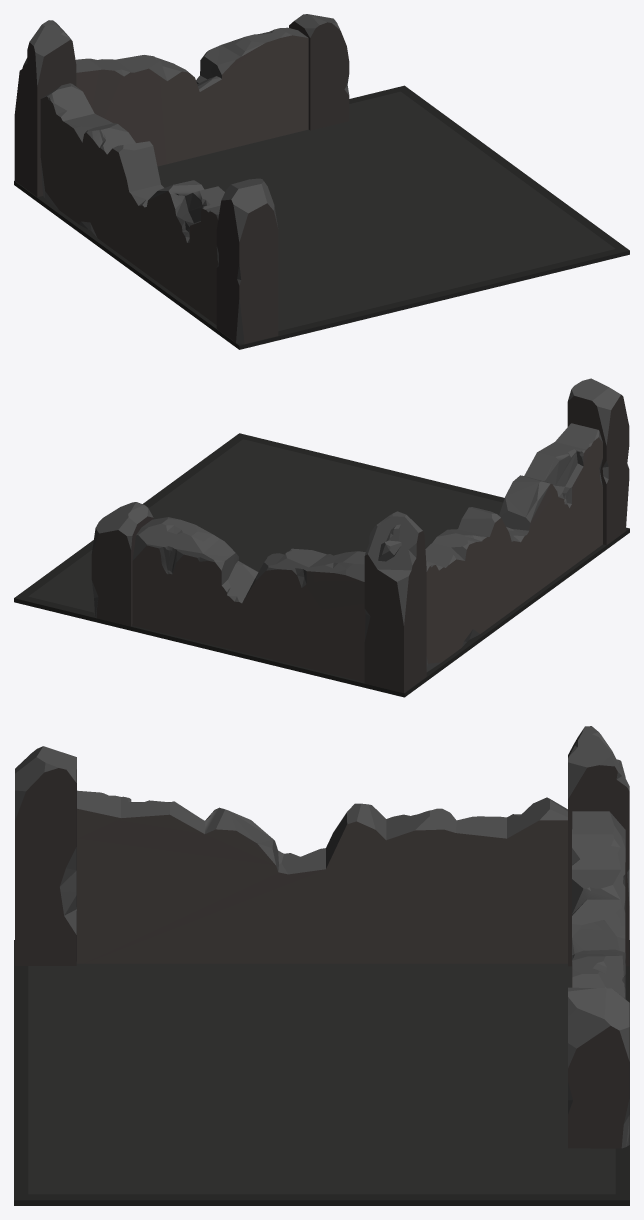
Rendered from 20C_BrokenHouse_04.fbx.
3 renders of one model, top to bottom at view 1: azimuth 30°, elevation 25°; view 2: azimuth 150°, elevation 25°; view 3: azimuth 270°, elevation 25°, orthographic. The views are drawn at different scales.
Parts seen in each view (by area): view 1: 20C_BrokenHouse_04; view 2: 20C_BrokenHouse_04; view 3: 20C_BrokenHouse_04.
Part boxes in pixels (box(x1,y1,x2,y2)): 20C_BrokenHouse_04: box(14, 14, 629, 349); 20C_BrokenHouse_04: box(14, 378, 629, 697); 20C_BrokenHouse_04: box(14, 726, 629, 1205).
Size of the model in its own units: 100 by 40.93 by 99.94.
